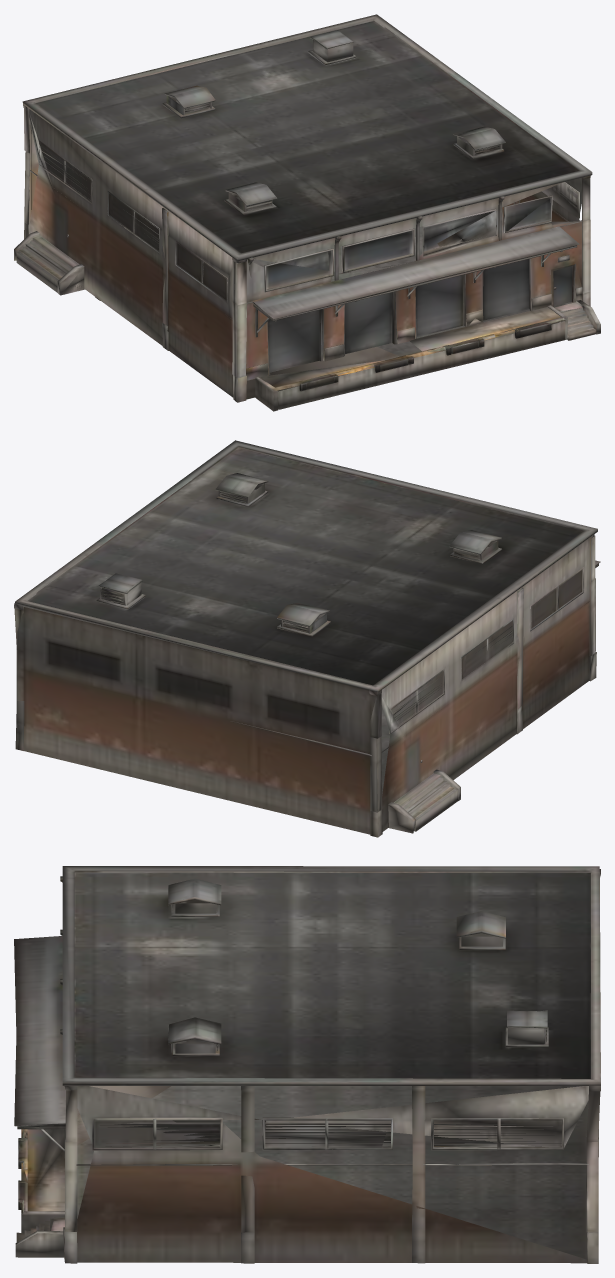
Rendered from warehouse.glb.
3 views of the same model, one above another, from view 1: azimuth 30°, elevation 25°; view 2: azimuth 150°, elevation 25°; view 3: azimuth 270°, elevation 25° (orthographic). The views are drawn at different scales.
Size of the model in its own units: 0.8857 by 0.3604 by 0.9551.
Materials: 1 (1 with a texture image).
